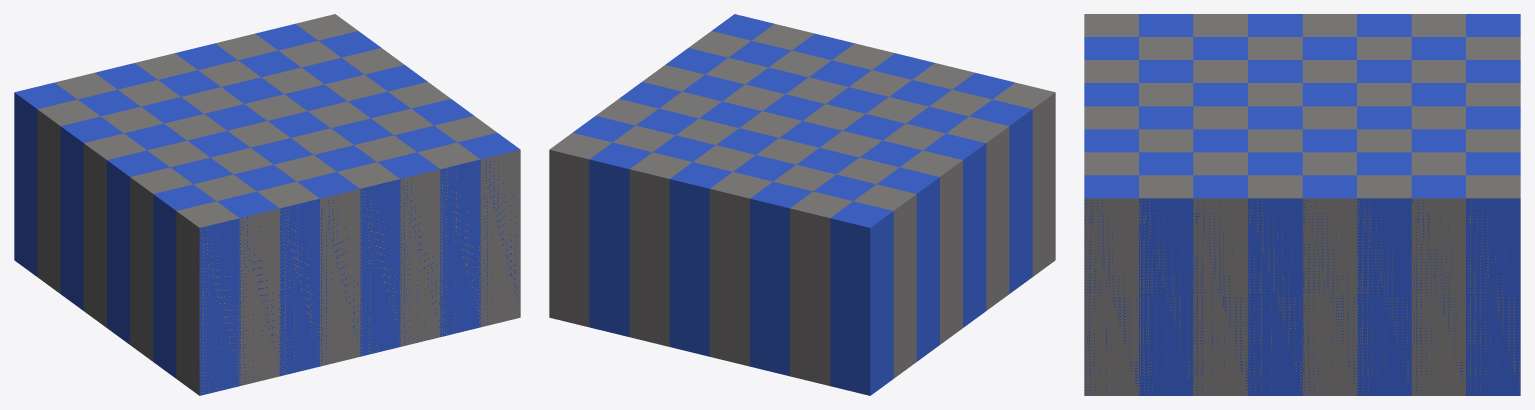
Rendered from asset.glb.
The picture shows the model from 3 angles, left to right: view 1: azimuth 30°, elevation 25°; view 2: azimuth 150°, elevation 25°; view 3: azimuth 270°, elevation 25°; orthographic projection. The views are drawn at different scales.
Parts seen in each view (by area): view 1: ProceduralAsset; view 2: ProceduralAsset; view 3: ProceduralAsset.
Boxes of the visible parts, x1,y1,x2,y2 form: ProceduralAsset: [14, 14, 520, 395]; ProceduralAsset: [549, 14, 1055, 395]; ProceduralAsset: [1084, 14, 1520, 395].
Bounding box in the file's own units: 2 × 1 × 2.
Materials: 1 (1 with a texture image).
